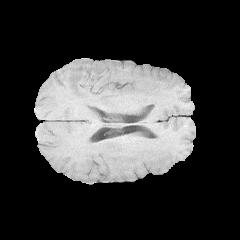glioma: (67, 60, 192, 112)
